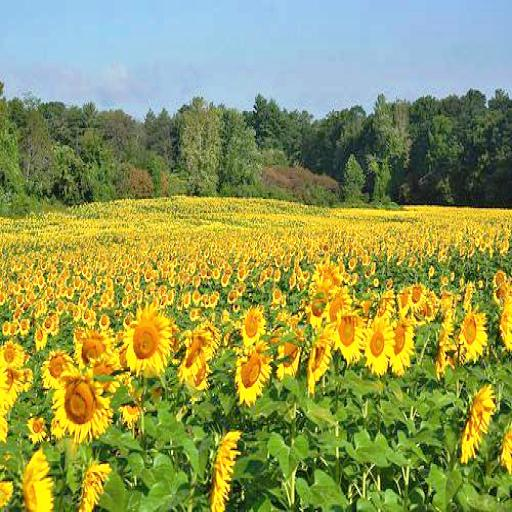sunflower: (52, 375, 114, 444), (123, 304, 169, 376), (461, 386, 492, 462), (213, 428, 240, 512), (74, 328, 116, 376), (234, 350, 272, 403), (308, 320, 335, 392), (333, 306, 364, 366), (364, 313, 393, 375), (22, 453, 52, 512), (458, 307, 486, 362), (42, 350, 74, 390), (306, 282, 335, 326), (311, 258, 346, 294), (391, 321, 414, 373), (241, 307, 261, 347)
